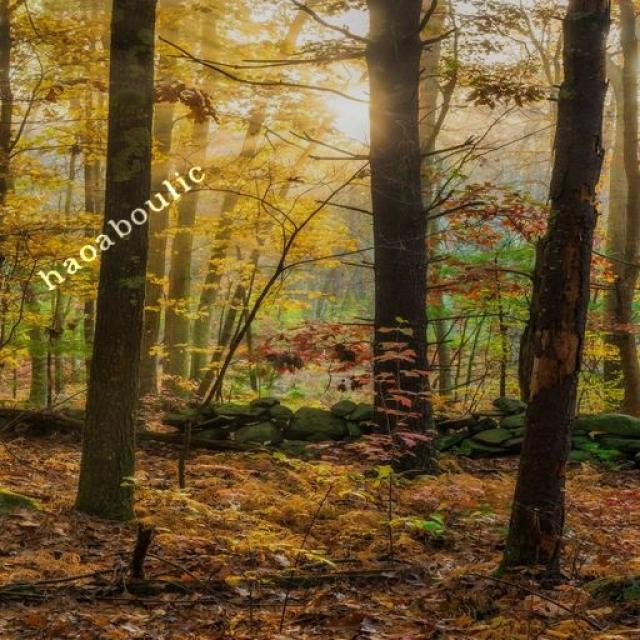watermark: (38, 152, 206, 296)
